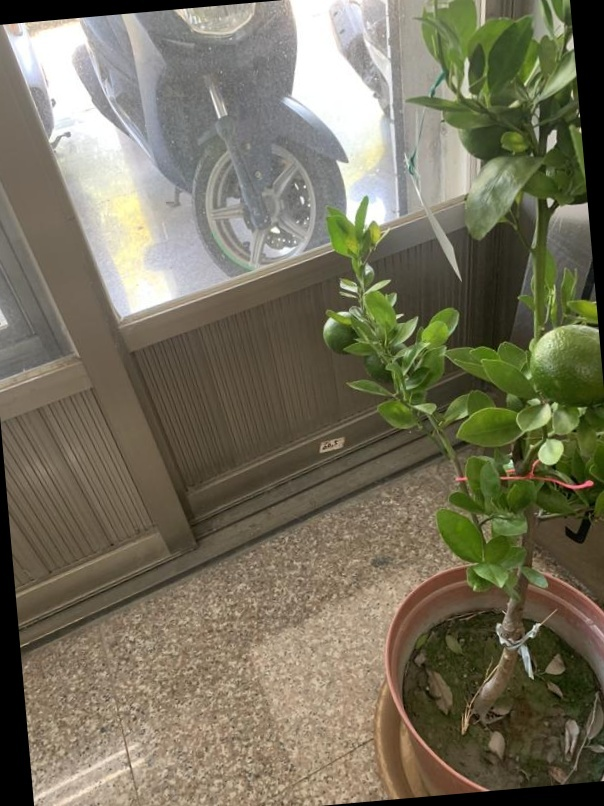Tangerine: (530, 317, 603, 403), (321, 307, 366, 353)
